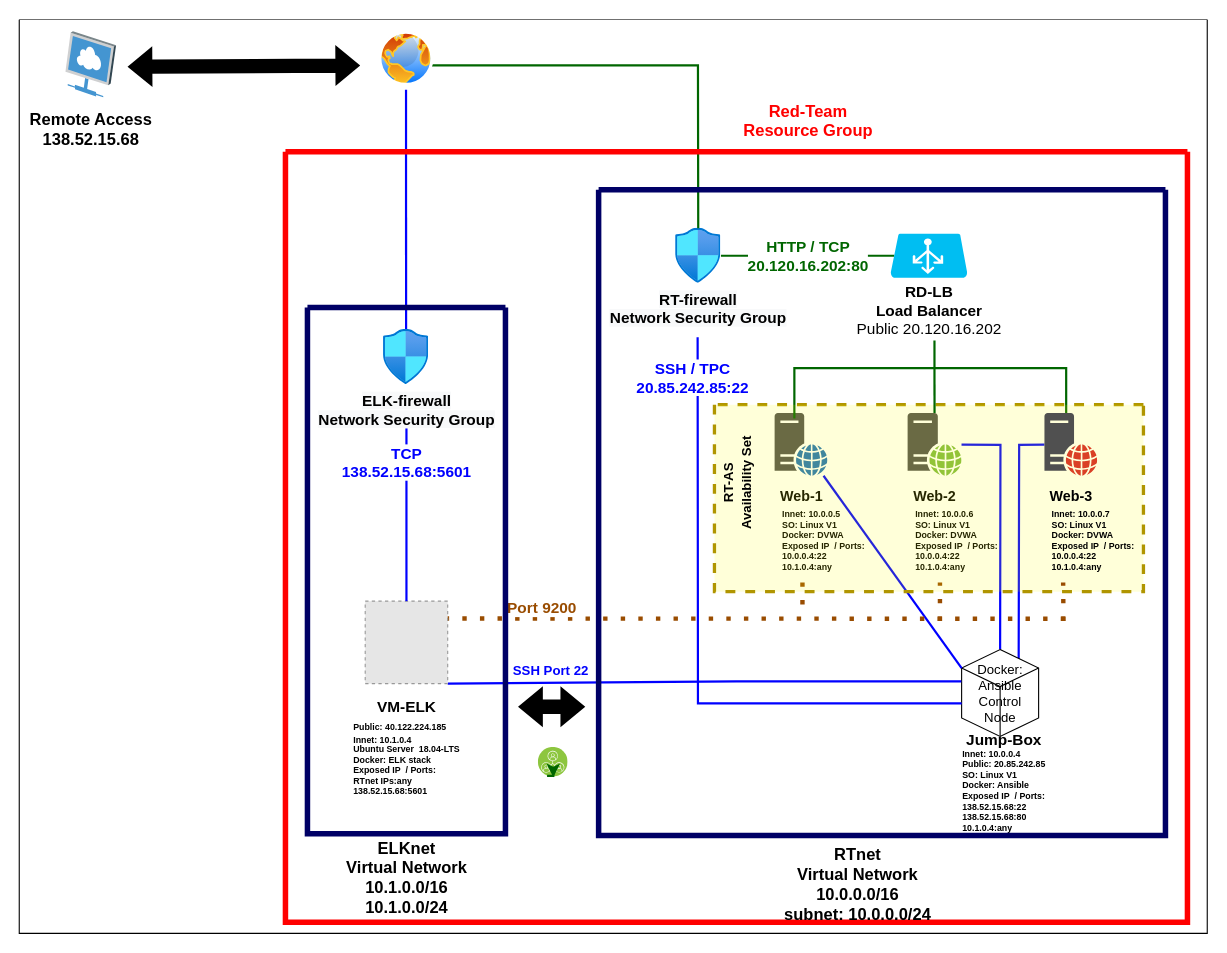
The diagram is 1227 pixels wide and 953 high, and some of its shapes have lost their labels. Grey dashed boxes stand in for pictures. Each missing label, with the centre of its shape:
INTERNET: [405,58]
Peering: [553,762]
